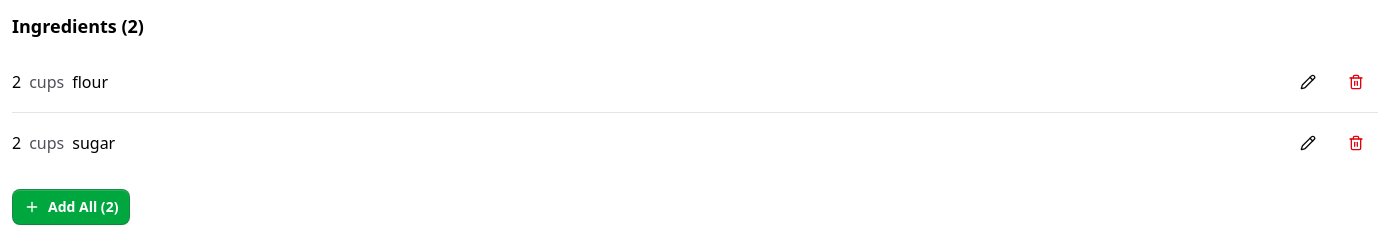
ParsedIngredientList › edit action on individual rows › enters edit mode when row edit button is clicked
This screenshot has width=1390, height=244.
# Get the first edit button
Click the button named "edit": {"x": 1308, "y": 82} x1=1286 y1=60 x2=1330 y2=104
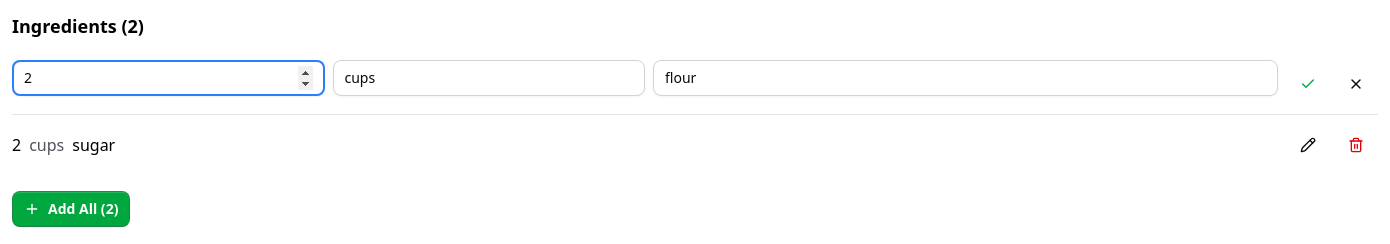
Expected: the number field named "quantity" is shown, x1=12 y1=60 x2=324 y2=96
